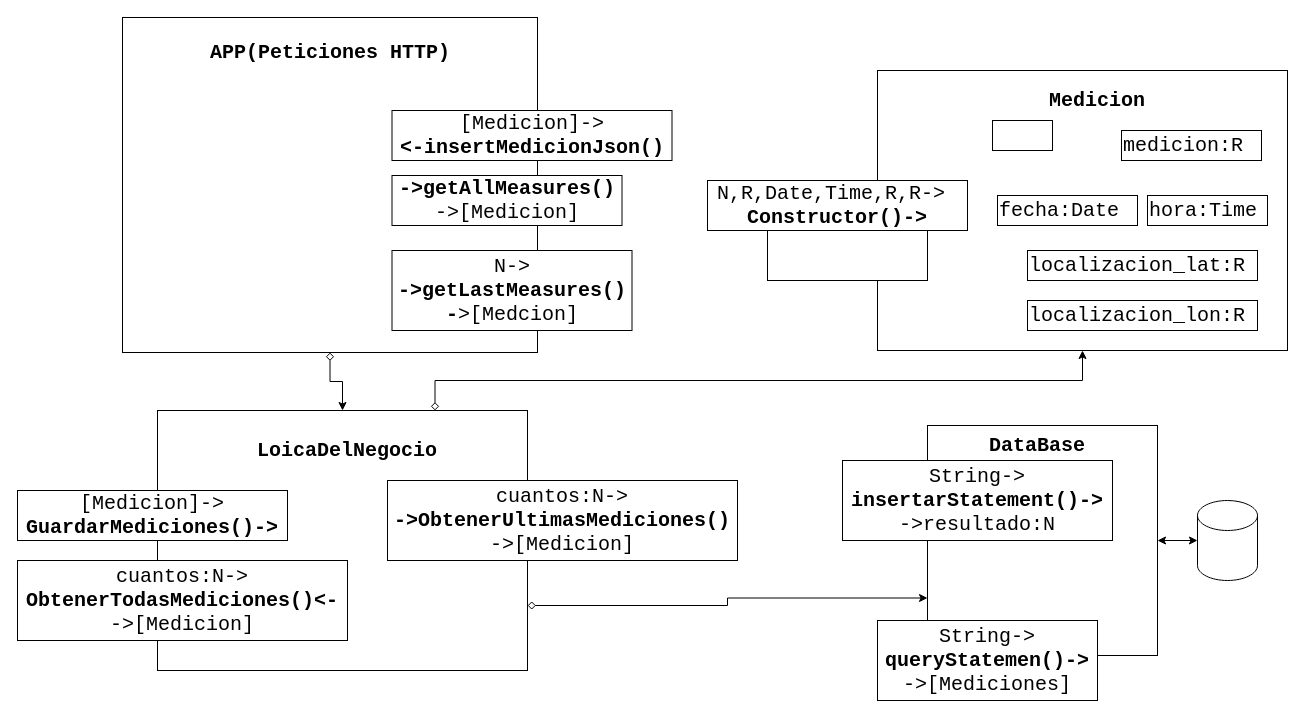
The diagram is 1305 pixels wide and 718 high, and some of its shapes have lost their labels. The centre of each missing label's shape, as x and y in pixels:
DB: the point at 1227,540
id:Z: the point at 1022,135
toJson()<- ->JSONObject: the point at 847,255
